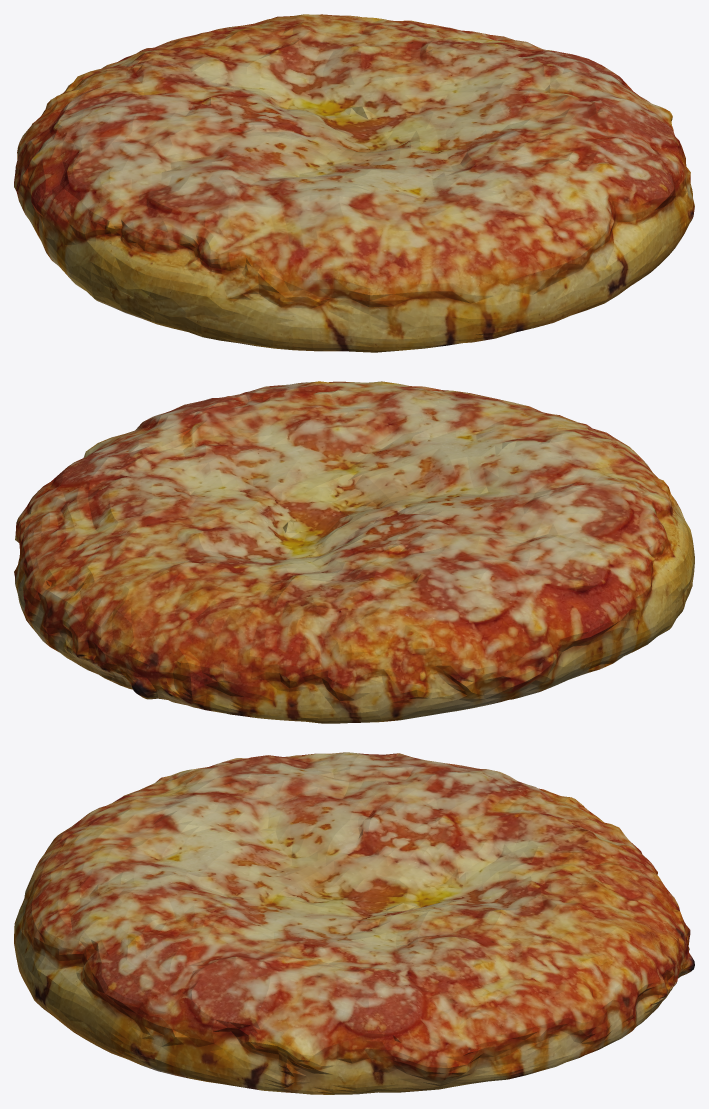
Rendered from UDLQSO3WTDLMRBBPR6ITTCF7R.gltf.
3 views of the same model, one above another, from view 1: azimuth 30°, elevation 25°; view 2: azimuth 150°, elevation 25°; view 3: azimuth 270°, elevation 25° (orthographic).
Size of the model in its own units: 2.44 by 0.4014 by 2.5.
1 material, 1 textured.
